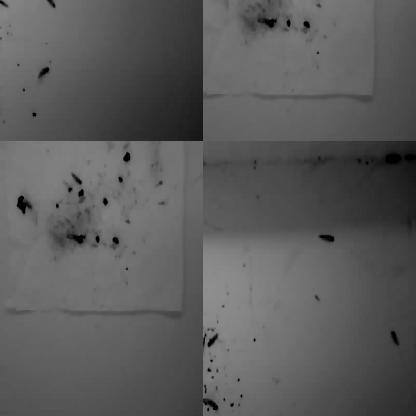PtecticusTenebrifer: (203, 397, 219, 410), (320, 232, 336, 244), (203, 337, 209, 366), (38, 67, 50, 80), (208, 333, 219, 347), (70, 172, 82, 184), (391, 330, 399, 348), (384, 0, 397, 11), (0, 1, 4, 34), (0, 63, 6, 85), (43, 0, 56, 10), (343, 0, 356, 9), (152, 141, 165, 150), (0, 82, 6, 101), (193, 141, 203, 152), (0, 80, 5, 100), (330, 0, 342, 8), (139, 141, 151, 149), (203, 160, 211, 172), (366, 0, 378, 7), (175, 141, 187, 148), (0, 211, 5, 227), (0, 181, 5, 197), (260, 0, 273, 6), (203, 266, 210, 276), (320, 0, 326, 11), (129, 141, 135, 152), (203, 202, 210, 211), (0, 43, 3, 63), (0, 0, 7, 8), (203, 0, 208, 11), (203, 35, 209, 44), (0, 251, 6, 260), (203, 315, 209, 324), (163, 0, 176, 4), (203, 384, 209, 391), (203, 0, 208, 8), (0, 0, 8, 4)
